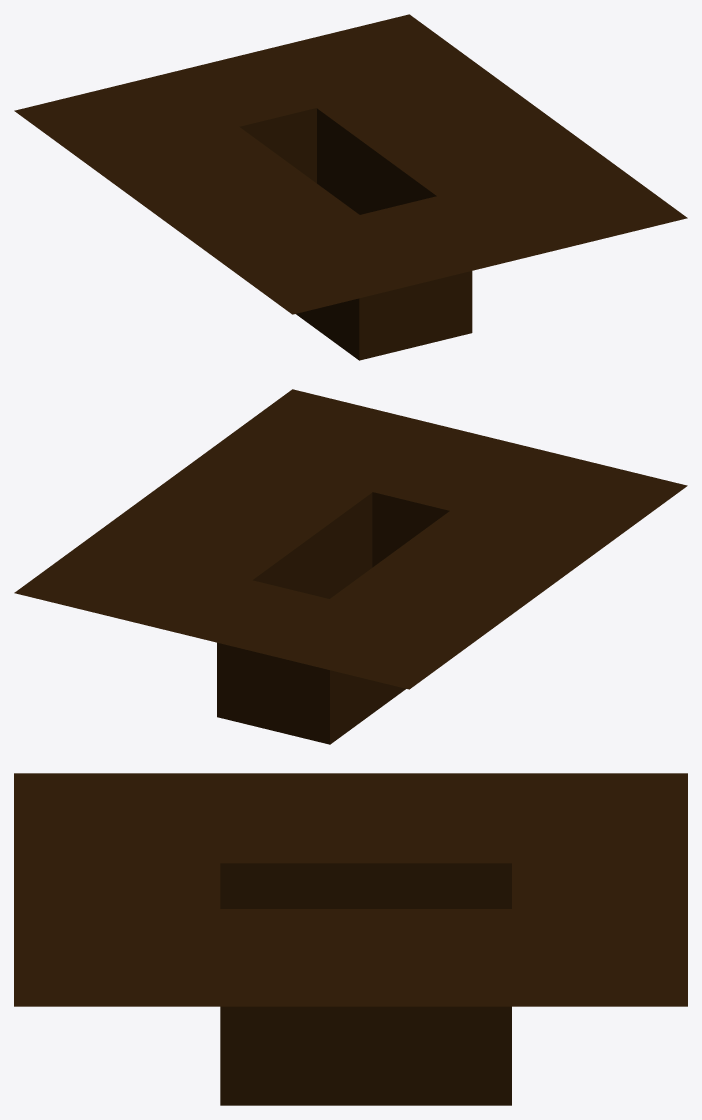
The model's file is hole2.gltf.
The picture shows the model from 3 angles, top to bottom: view 1: azimuth 30°, elevation 25°; view 2: azimuth 150°, elevation 25°; view 3: azimuth 270°, elevation 25°; orthographic projection. The views are drawn at different scales.
Parts seen in each view (by area): view 1: plane, hole; view 2: plane, hole; view 3: plane, hole.
Part boxes in pixels (box(x1,y1,x2,y2)): plane: box(14, 14, 687, 314); hole: box(239, 108, 472, 360); plane: box(14, 389, 687, 689); hole: box(217, 492, 449, 744); plane: box(14, 773, 687, 1006); hole: box(220, 863, 511, 1105).
Size of the model in its own units: 5.69 by 2 by 6.94.
Materials: 2 (2 with a texture image).
